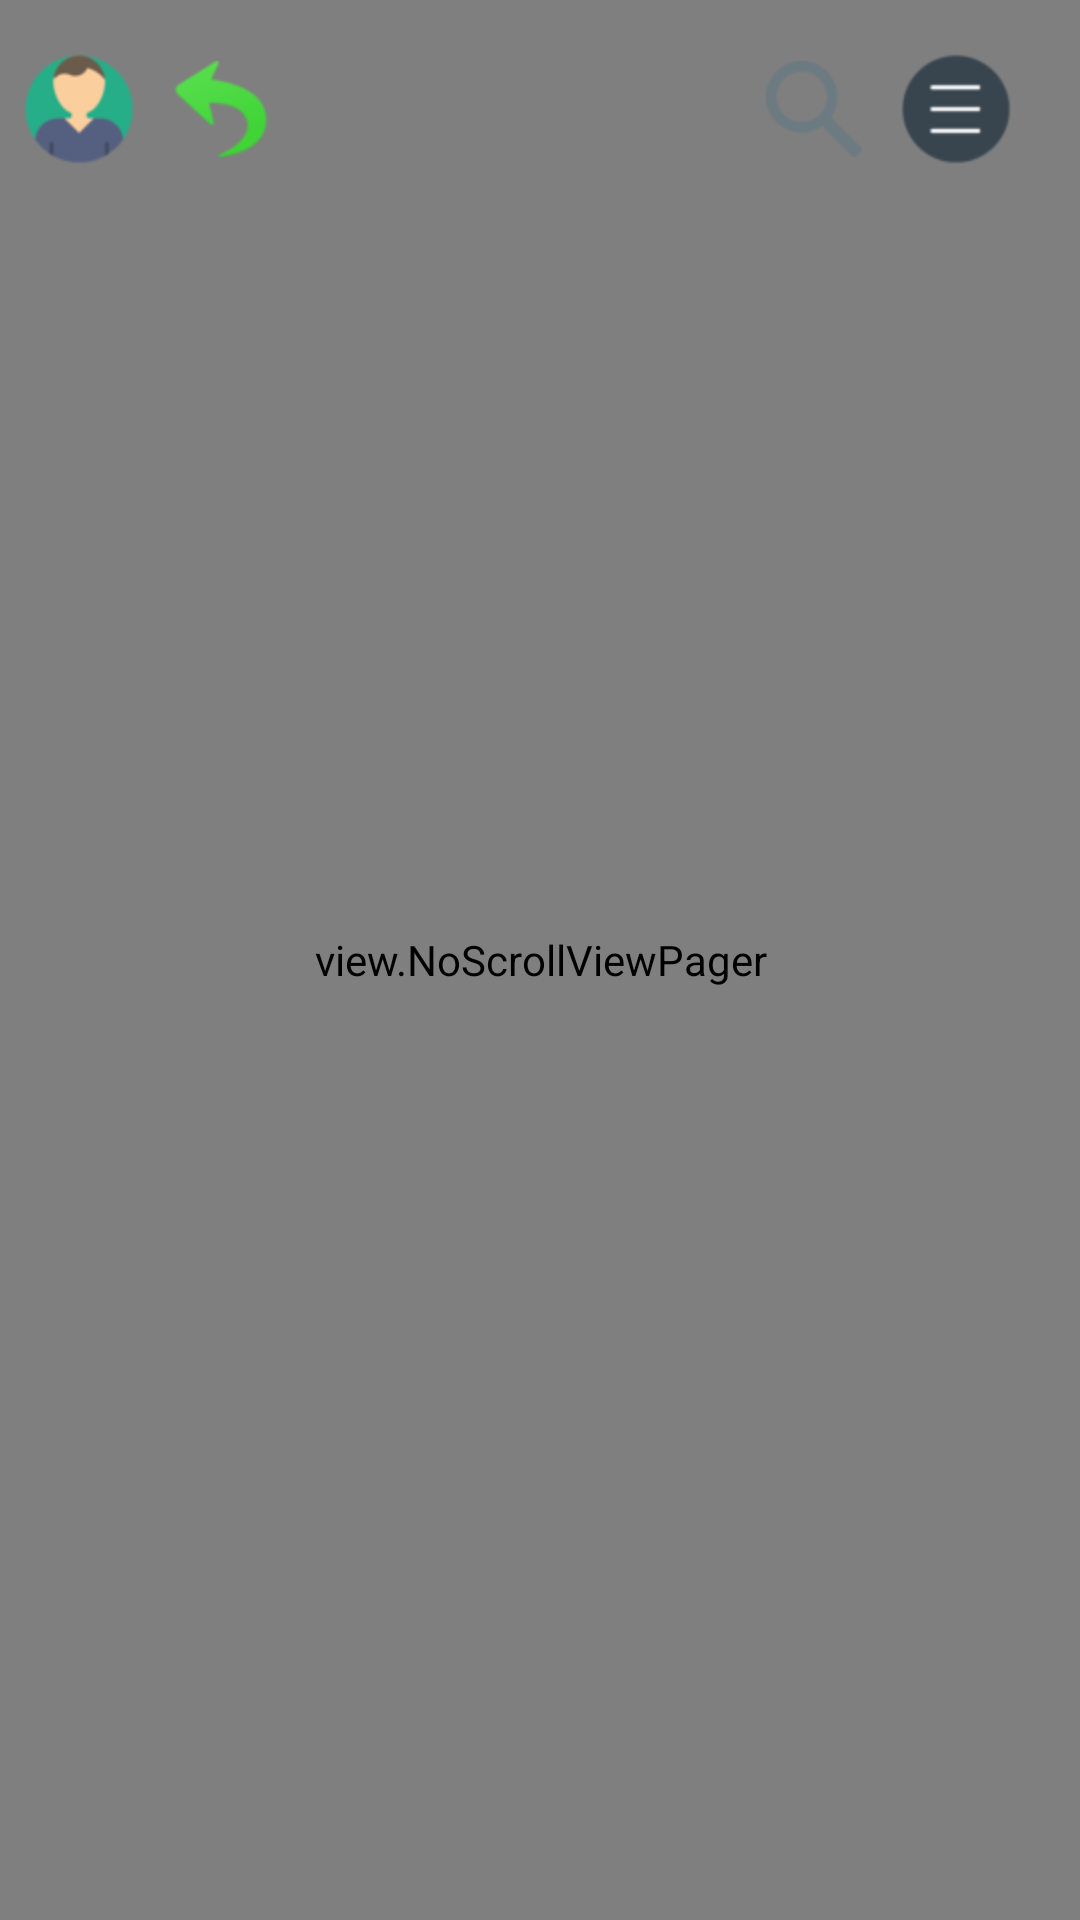

Icons on this 1080px×1920px Android screen, each with its box as (x1, y1, x2, y2):
back: (175, 61, 267, 157)
list: (902, 55, 1010, 163)
user: (25, 55, 133, 162)
